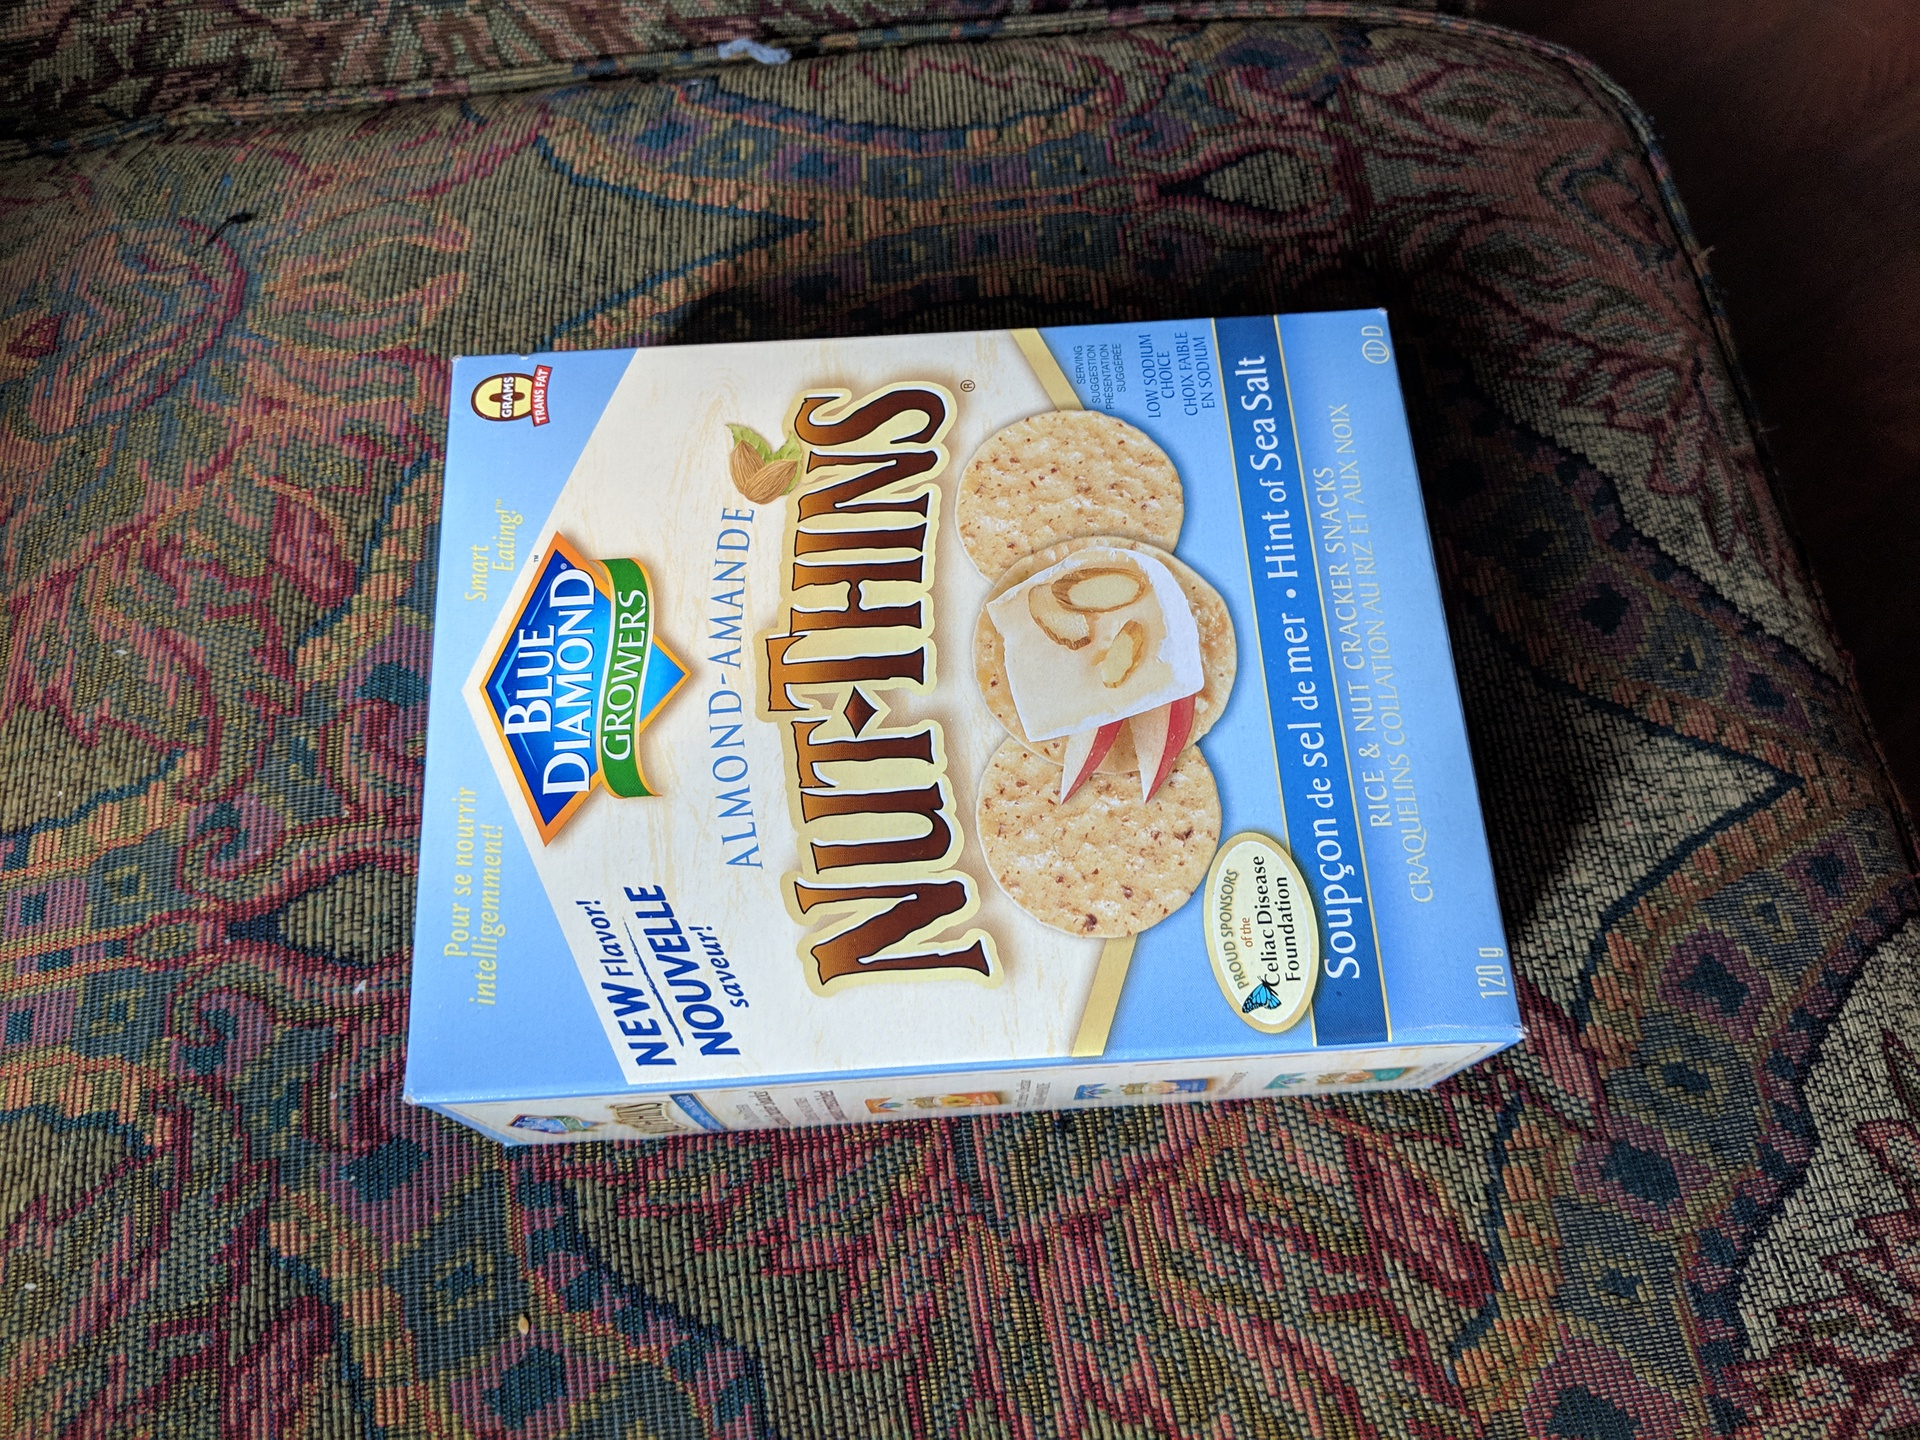blue_diamond_nut_thins_almond_seasalt: (447, 321, 1479, 1134)
